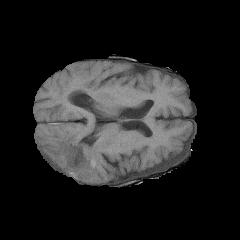glioma: (39, 98, 106, 181)
